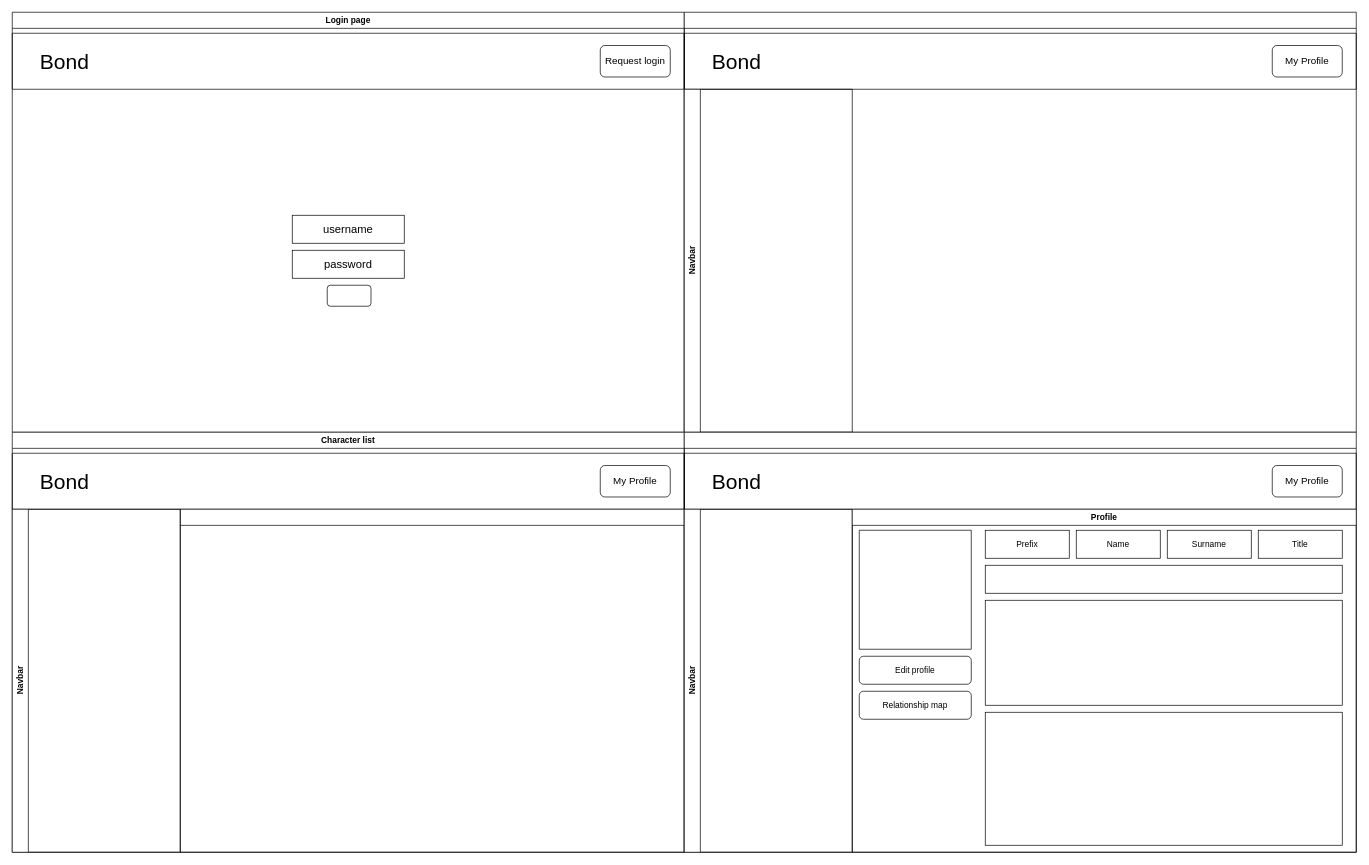
The diagram is 1369 pixels wide and 865 high, and some of its shapes have lost their labels. The box of each missing label's shape, as (x1, y1, x2, y2) in pixels:
Character Page: (684, 432, 1356, 852)
Character portrait: (859, 530, 971, 649)
Full Title: (985, 565, 1342, 593)
Landing page: (684, 12, 1356, 432)
List of characters: (180, 509, 684, 852)
login: (327, 285, 371, 306)
Relationships: (985, 712, 1342, 845)
TRP3 Character info: (985, 600, 1342, 705)
